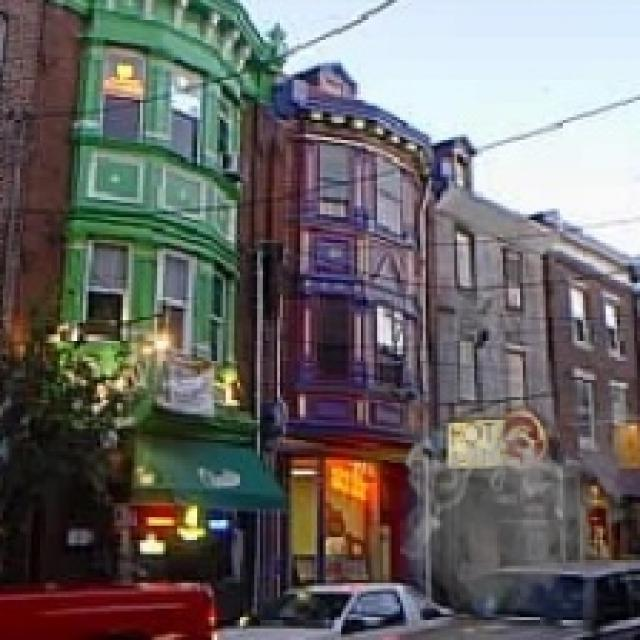smoke: (397, 357, 637, 634)
